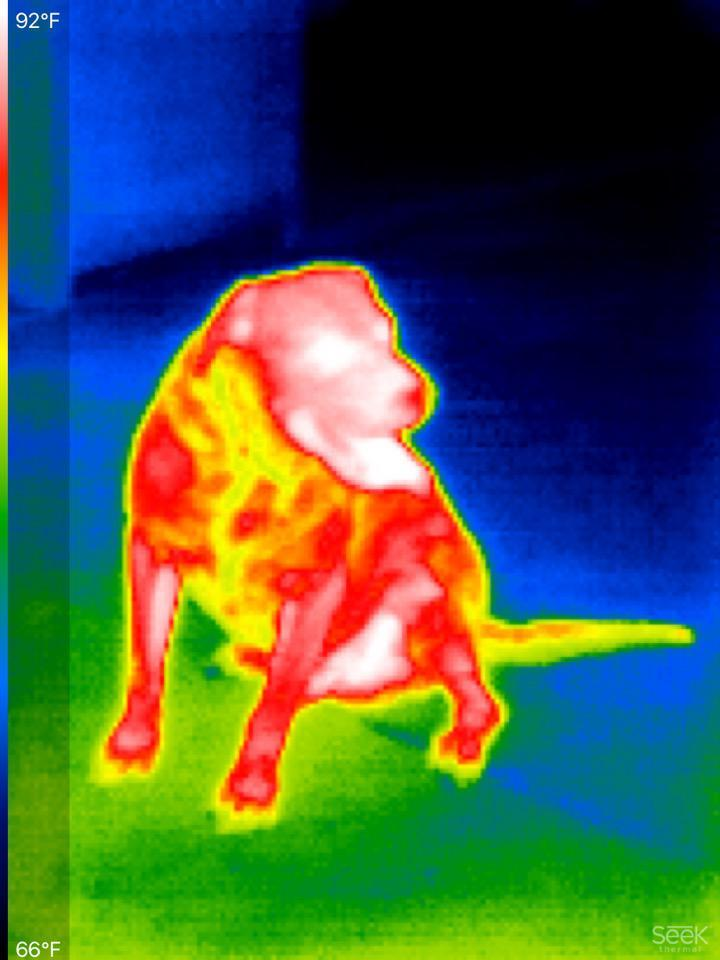dog: (102, 254, 694, 827)
